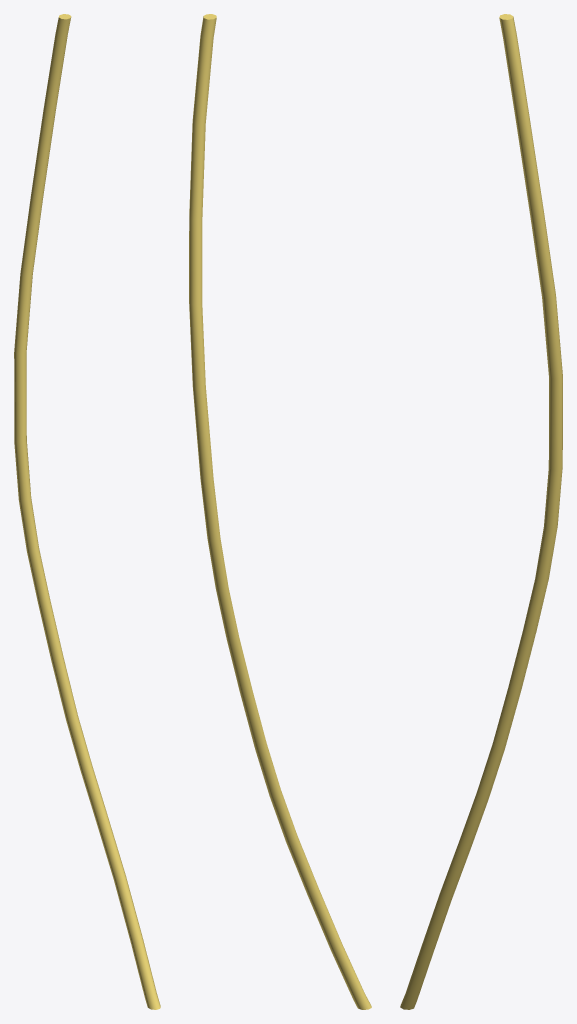
The model's file is nerf-ulnaire.glb.
3 renders of one model, left to right at view 1: azimuth 90°, elevation 25°; view 2: azimuth 150°, elevation 25°; view 3: azimuth 270°, elevation 25°, orthographic. The views are drawn at different scales.
Visible parts, largest first — view 1: nerf-ulnaire; view 2: nerf-ulnaire; view 3: nerf-ulnaire.
Boxes of the visible parts, x1,y1,x2,y2 form: nerf-ulnaire: (14,14,160,1009); nerf-ulnaire: (189,14,371,1009); nerf-ulnaire: (400,14,562,1009).
Size of the model in its own units: 0.0307 by 0.24 by 0.0339.
